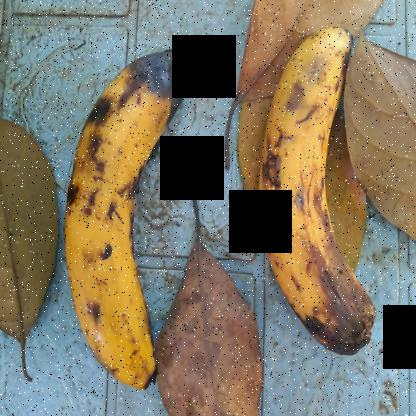overripe: (43, 1, 222, 411), (240, 26, 377, 375)
